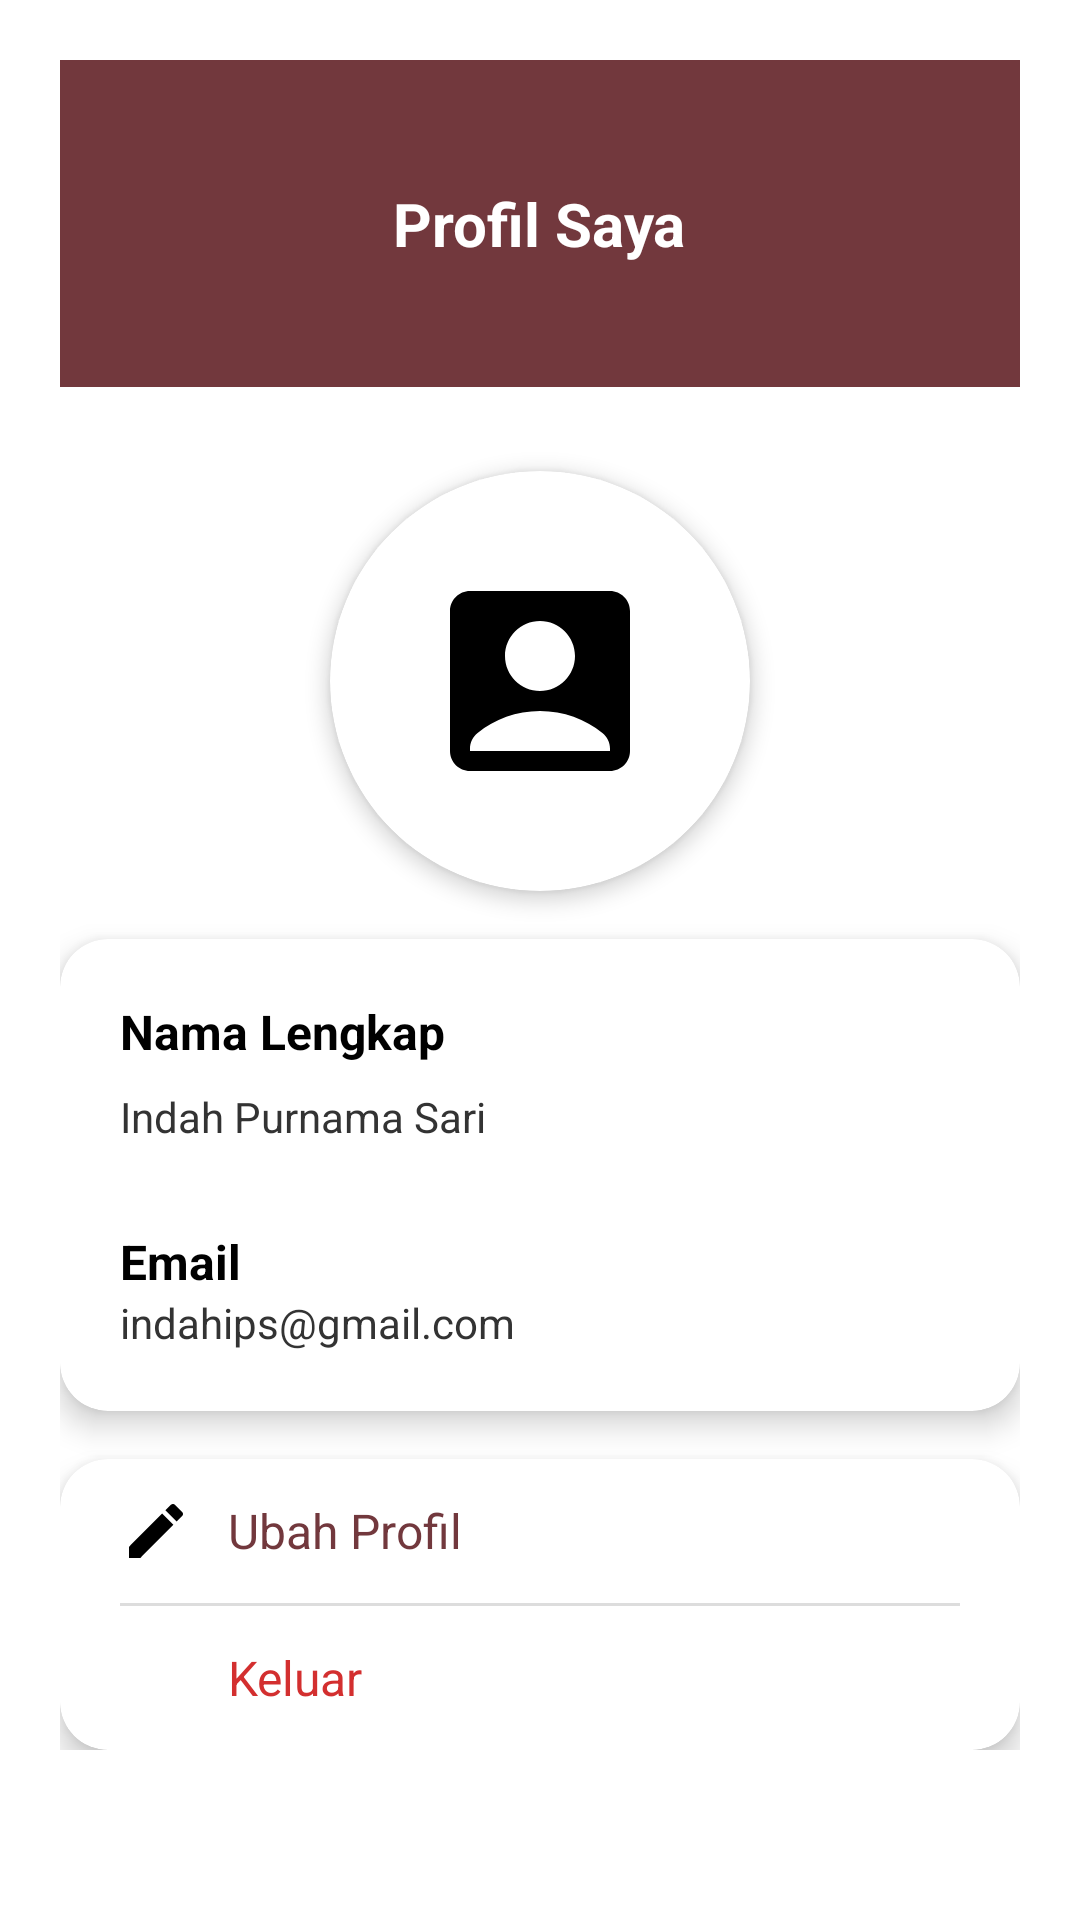

Screen size 1080*1920. Icon name, then its center in pixels as (x=x, y=y):
account box: (x=540, y=621)
edit: (x=156, y=1531)
